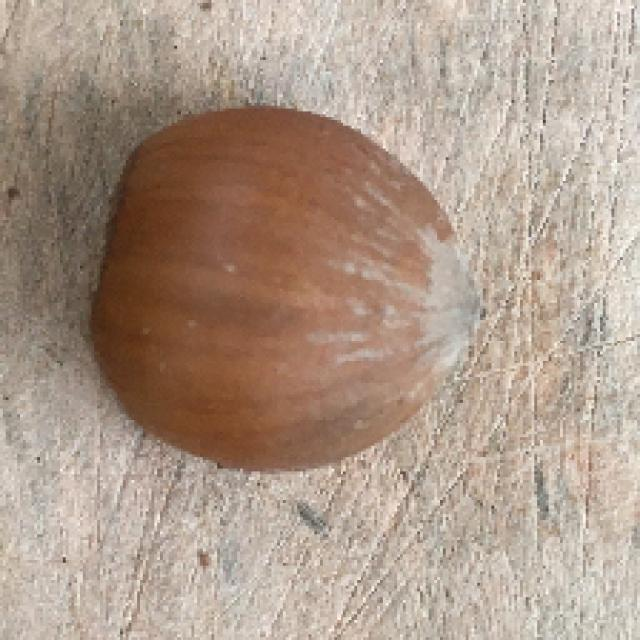qualityHazelnut: (94, 104, 486, 477)
